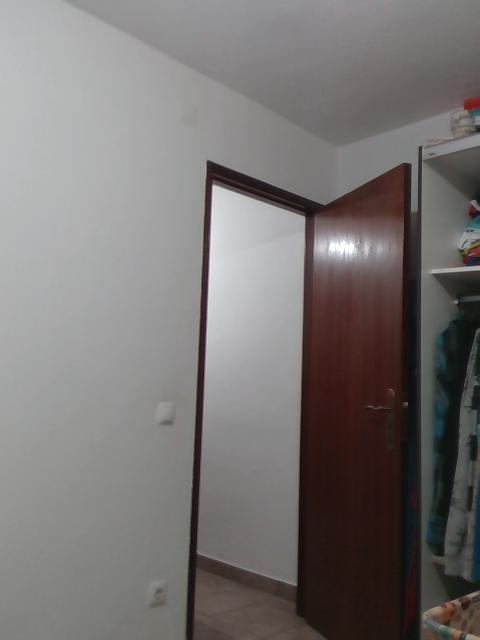open_door: (184, 157, 334, 638)
